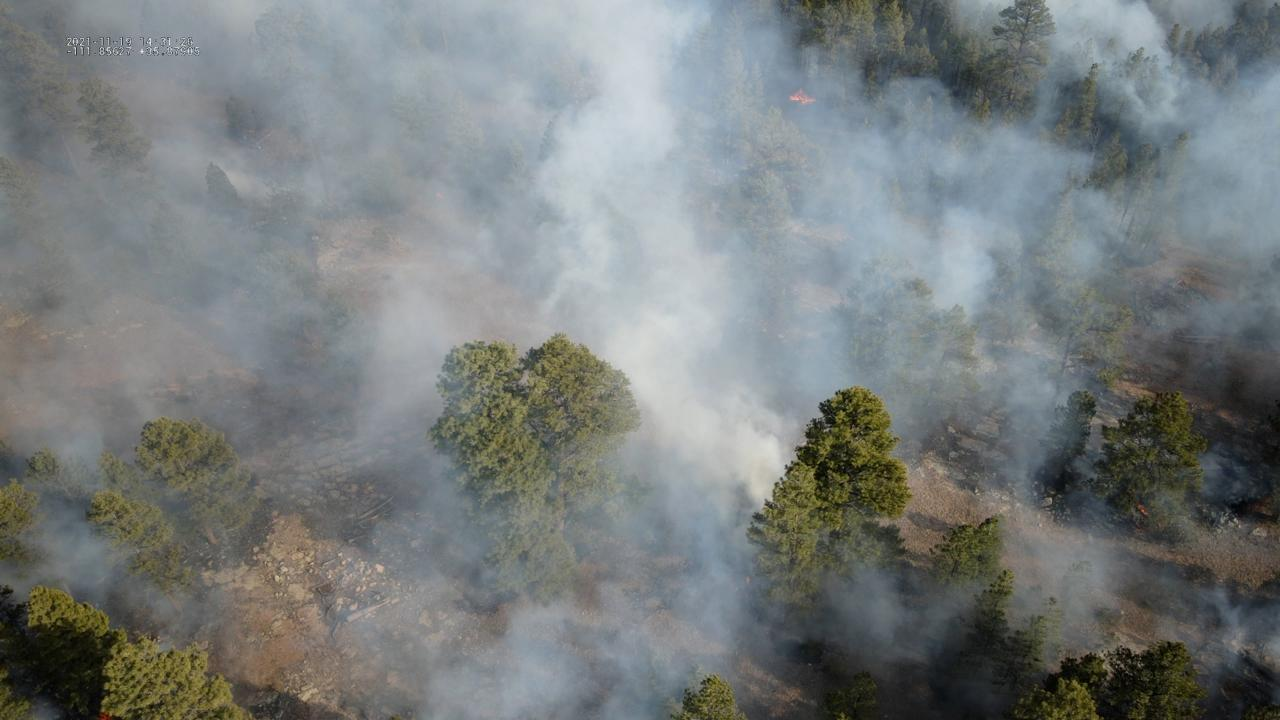fire: (786, 86, 819, 105), (1136, 502, 1151, 517), (93, 710, 113, 720)
smoke: (0, 0, 1280, 720)
